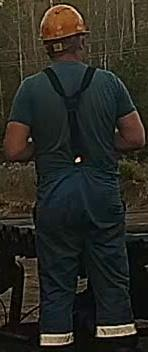helmet: (38, 3, 90, 42)
